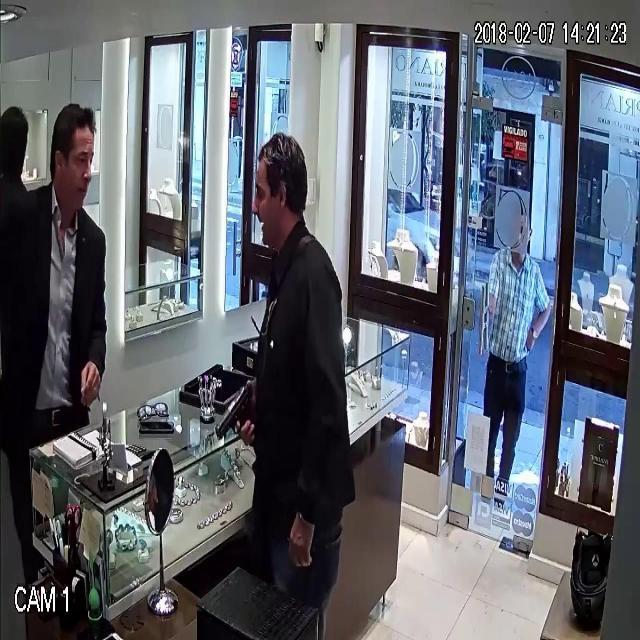weapon: (208, 363, 255, 476)
